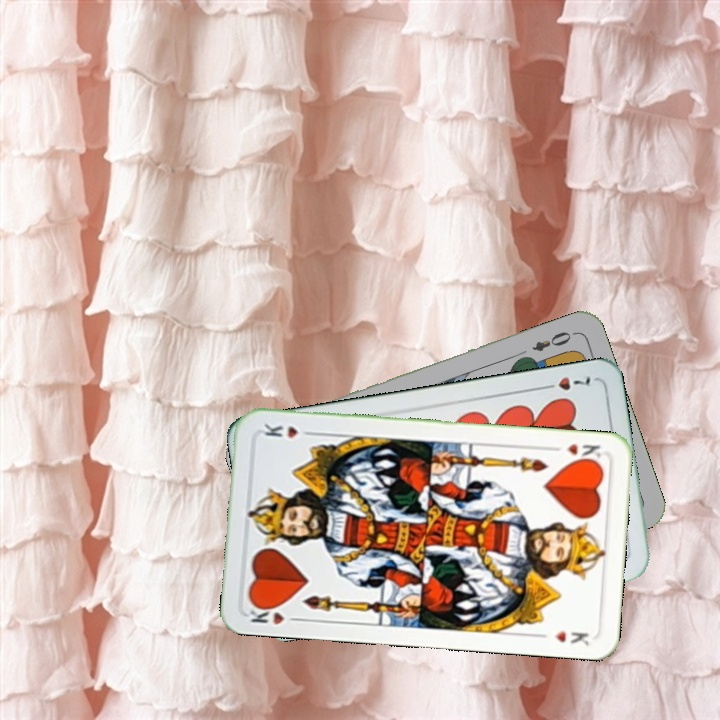EO: (528, 327, 578, 354)
H7: (537, 372, 593, 393)
HK: (244, 599, 304, 627), (547, 439, 604, 465)
